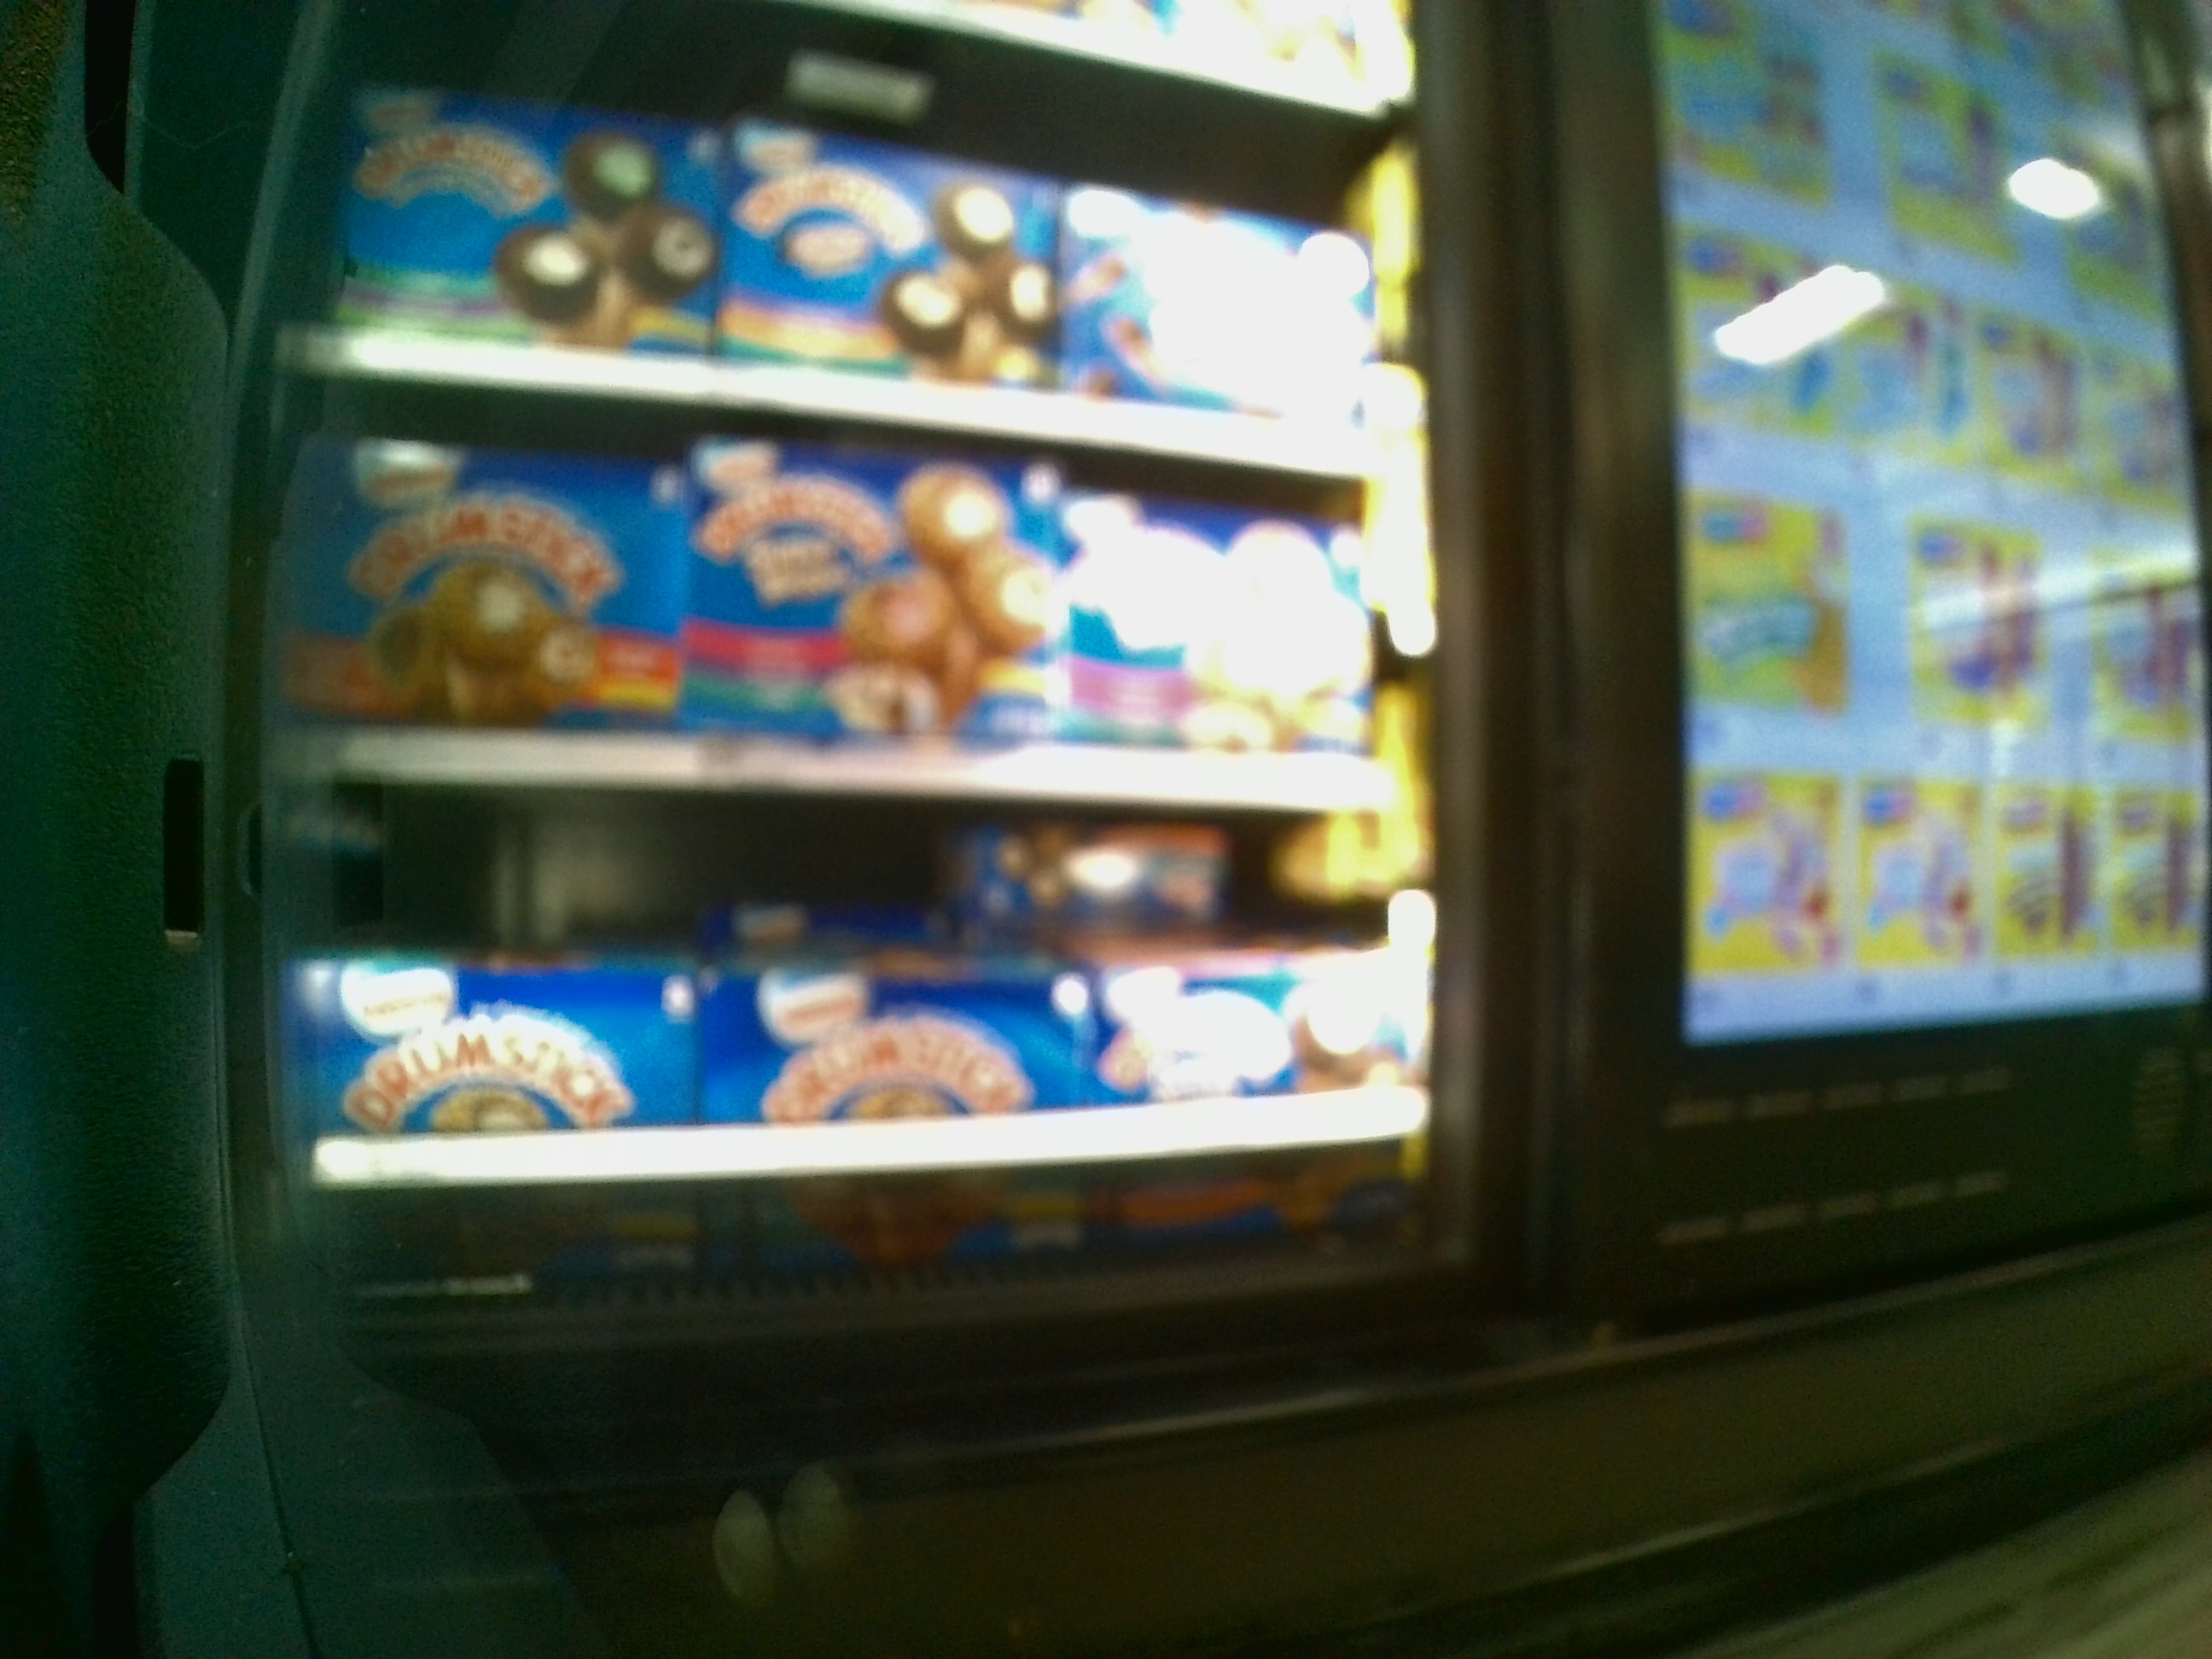shelf: (298, 816, 1430, 1248), (287, 422, 1409, 817)
